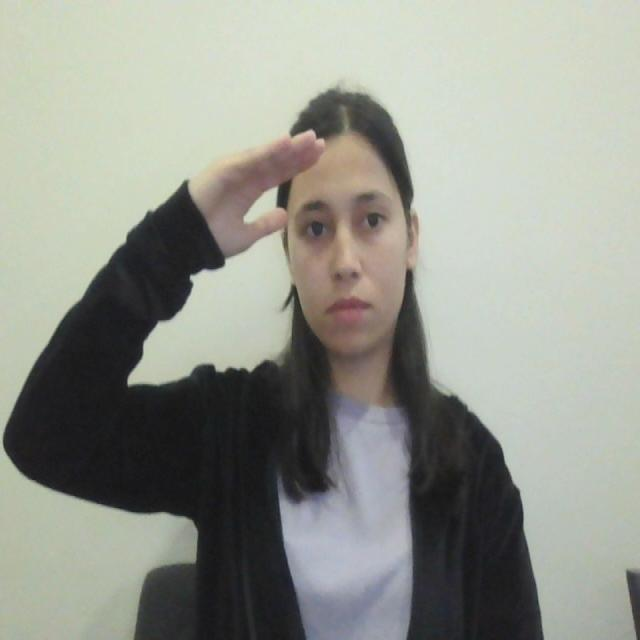Merhaba: (183, 87, 333, 331)
